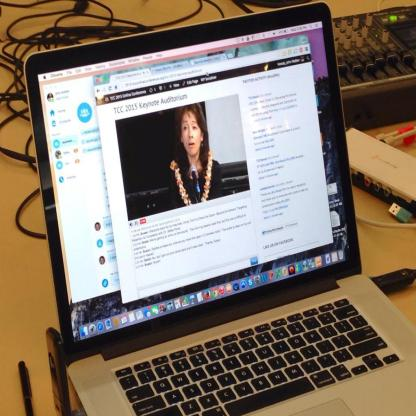board: (17, 21, 402, 416)
